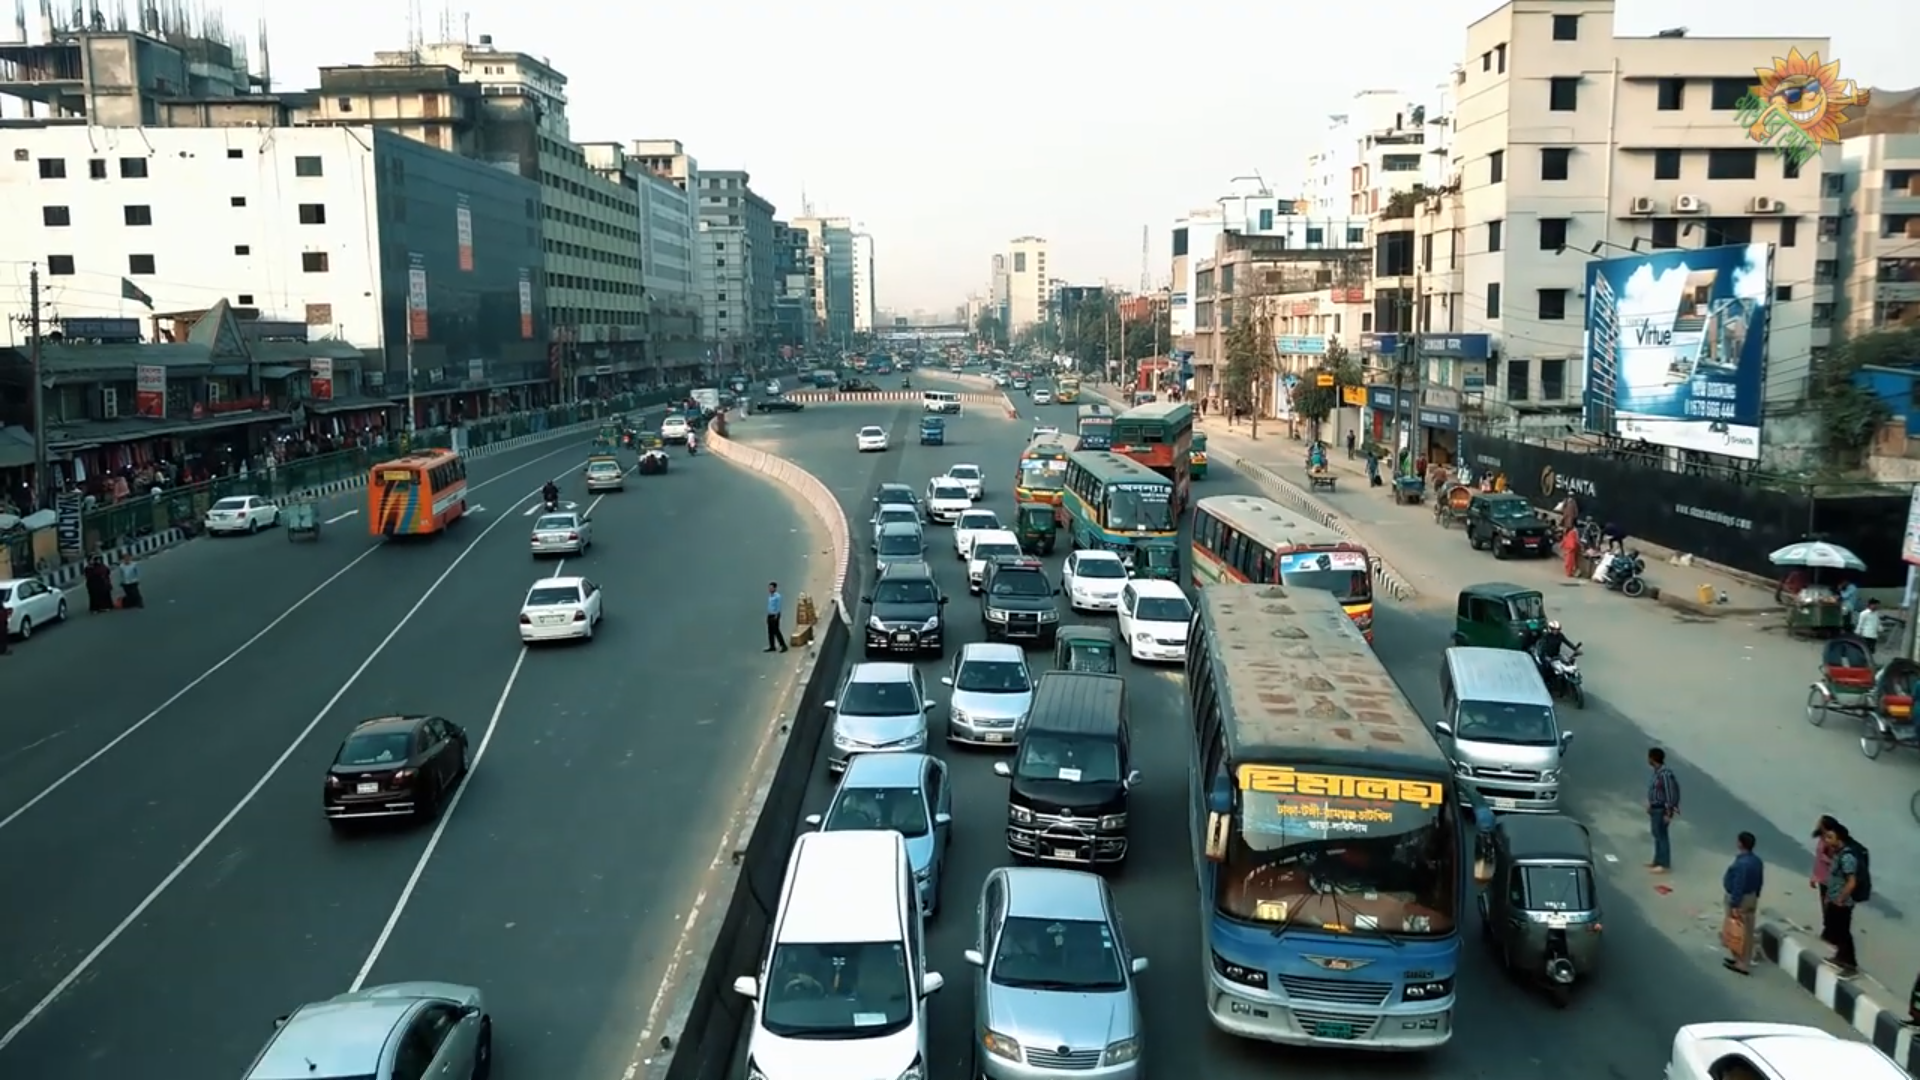HeavyVehicle: (1185, 576, 1464, 1063), (1191, 492, 1375, 585), (1065, 454, 1179, 549), (369, 444, 473, 541), (1015, 425, 1062, 502)
LightVehicle: (744, 832, 928, 1080), (973, 858, 1145, 1080), (241, 976, 520, 1080), (1481, 808, 1611, 1022), (1021, 669, 1133, 865), (319, 707, 473, 843), (828, 654, 924, 756), (868, 563, 942, 659), (518, 571, 604, 650), (527, 512, 591, 562), (858, 425, 889, 455)
MotorCycle: (537, 477, 564, 509)
